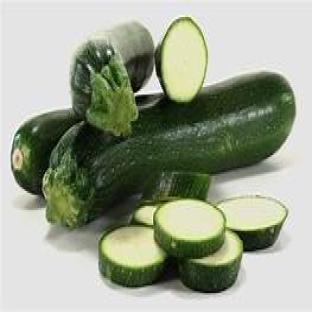Zucchini: (43, 72, 295, 226), (70, 21, 154, 136), (11, 110, 77, 194), (156, 18, 207, 102), (154, 199, 225, 259), (99, 226, 167, 287), (180, 231, 243, 293), (219, 197, 287, 251), (142, 171, 209, 202), (131, 205, 157, 226)
